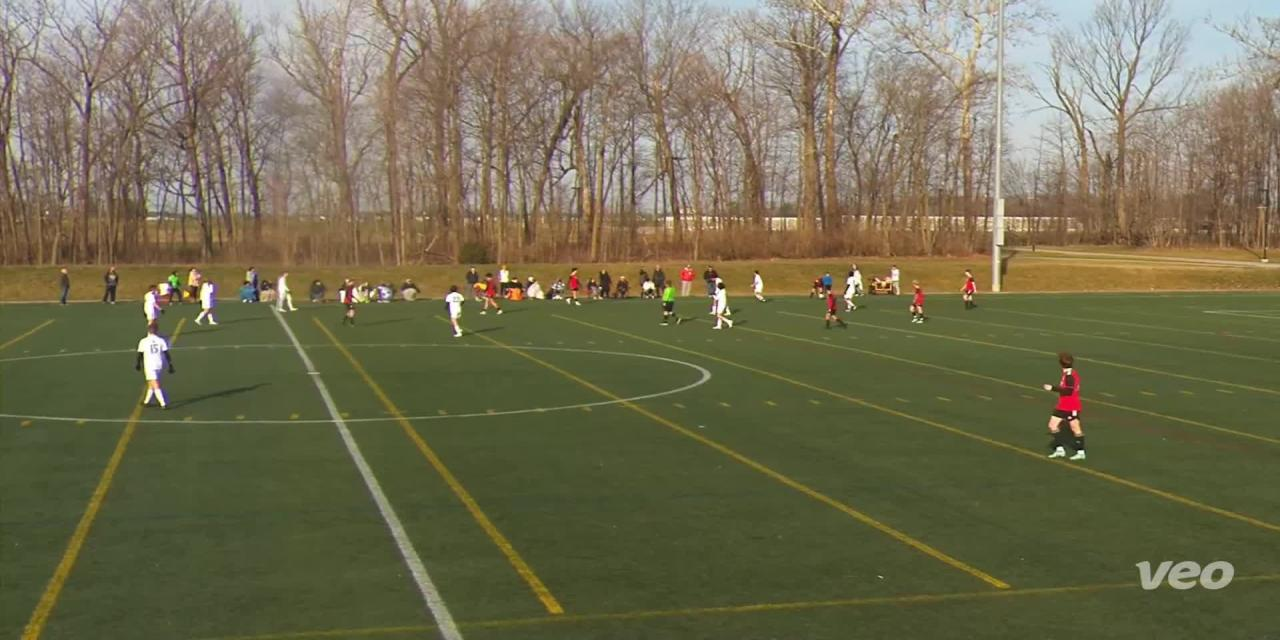sports ball: (815, 290, 827, 301)
